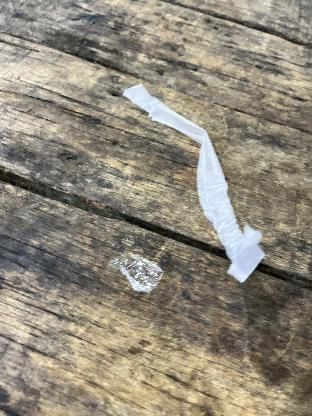Others: (132, 74, 270, 286), (109, 247, 169, 296)
